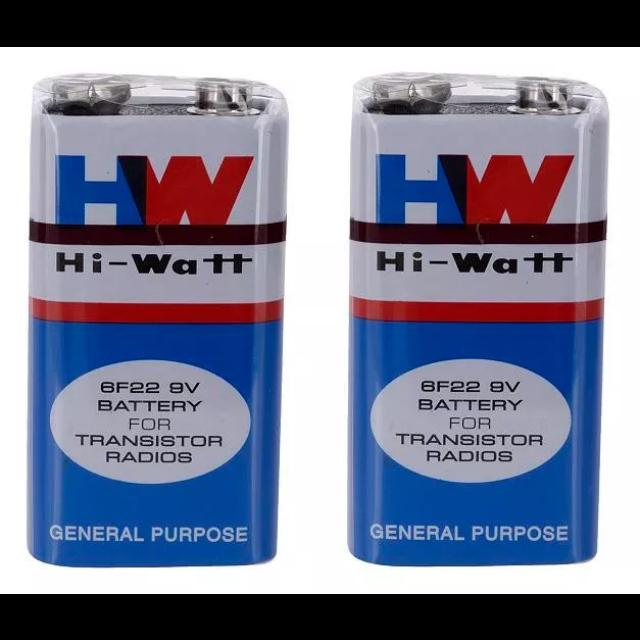Battery: (346, 70, 610, 570)
